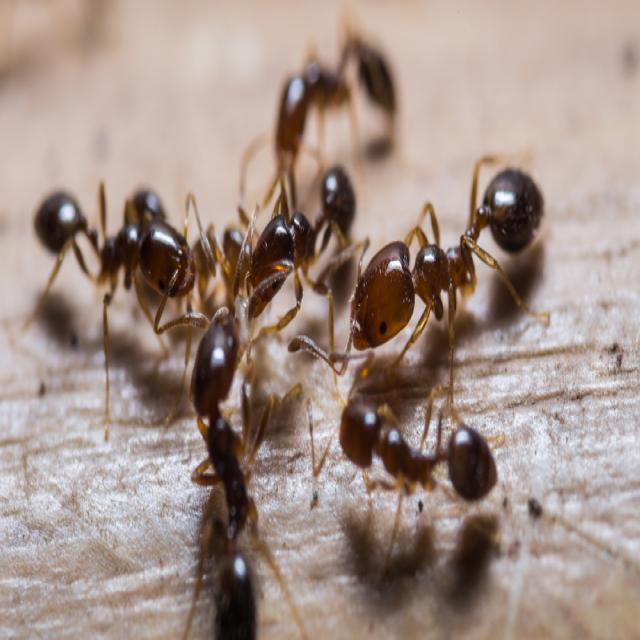ants: (330, 145, 549, 388), (28, 166, 198, 348), (322, 386, 508, 547), (179, 302, 253, 640), (235, 158, 368, 329)
